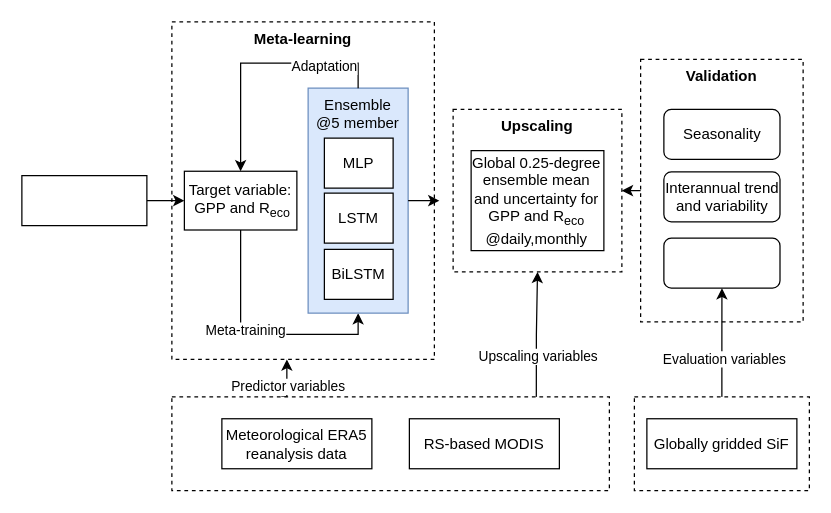
Some shapes in this 831 by 513 pixel diagram are drawn without their labels. The centre of each missing label's shape, as x and y in pixels:
Eddy covariance flux tower data: the point at 84,200
Seasonal correlation with SiF: the point at 721,262
